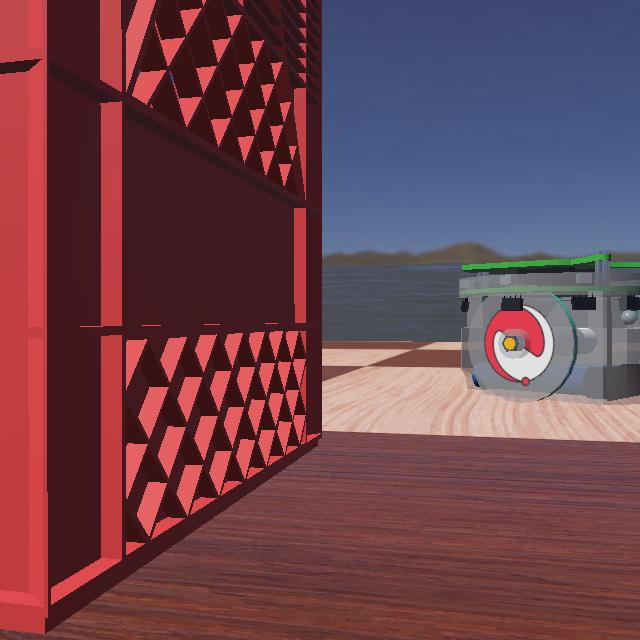plastic-crate: (1, 1, 330, 640)
